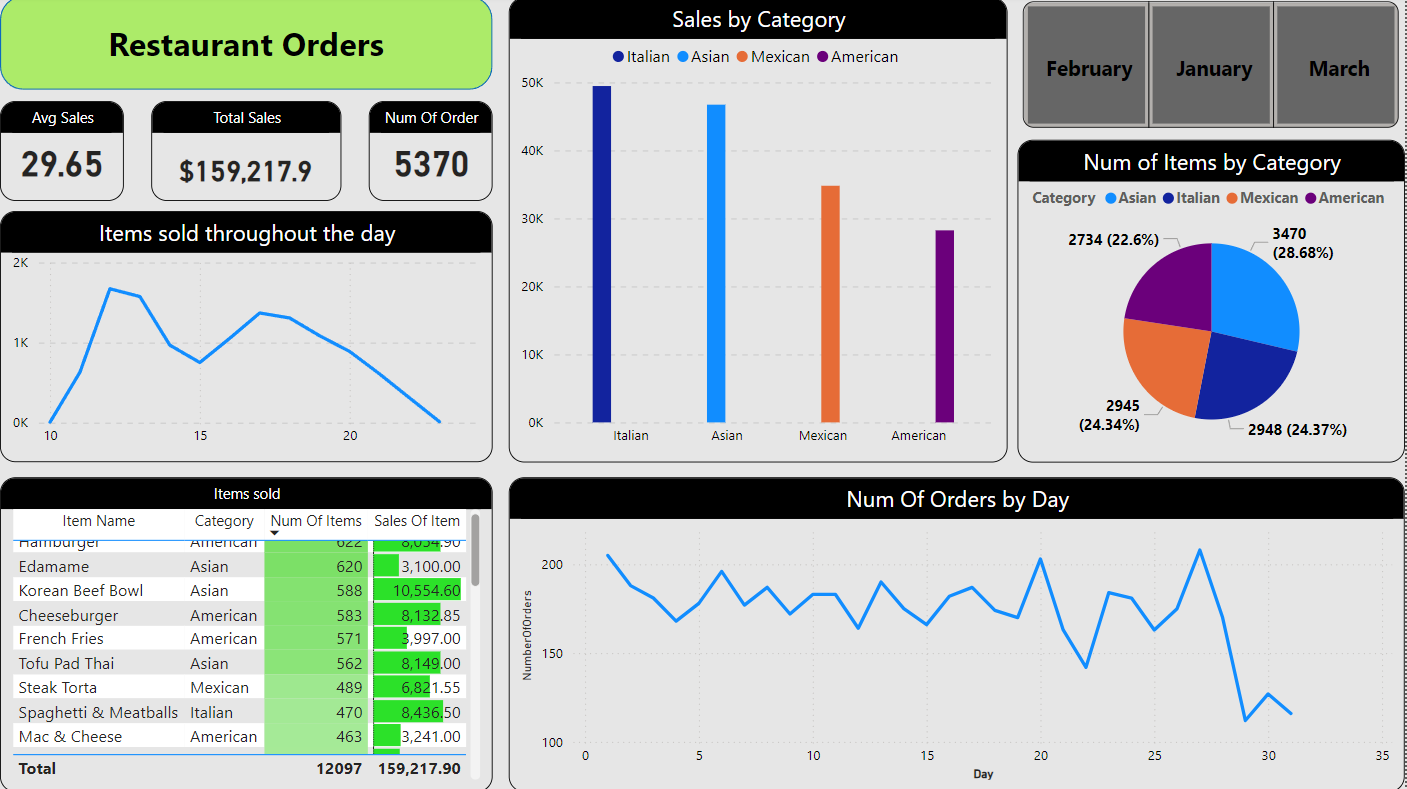

The page's visual inventory and layout, read from the dashboard file:
{"tool":"powerbi","page":{"name":"Page 1","canvas":[1280,720],"ordinal":0},"visuals":[{"type":"pieChart","title":"Num of Items by Category","fields":{"Y":["measure.Num Of Items"],"Category":["menu_items.Category"]},"box":[929.4,130,350.5,291.7],"z":0},{"type":"lineChart","title":"Num Of Orders by Day","fields":{"Y":["measure.NumberOfOrders"],"Category":["order_details.order_date.Variation.Date Hierarchy.Day"]},"box":[469.2,435.3,810.7,284.9],"z":1000},{"type":"advancedSlicerVisual","fields":{"Values":["order_details.Month Name"]},"box":[928.8,0,351.2,124.6],"z":2000},{"type":"cardVisual","title":"Total Sales","fields":{"Data":["measure.TotalSales"]},"box":[145.9,95,171.9,90.5],"z":3000},{"type":"card","title":"Num Of Order","fields":{"Values":["measure.NumberOfOrders"]},"box":[342.6,95,111.9,90.5],"z":4000},{"type":"card","title":"Avg Sales","fields":{"Values":["measure.AverageOrderValue"]},"box":[9,95,111.9,90.5],"z":5000},{"type":"tableEx","title":"Items sold","fields":{"Values":["menu_items.item_name","menu_items.category","measure.num of items","measure.Sales of item"]},"box":[9,435.3,445.5,284.9],"z":6000},{"type":"clusteredColumnChart","title":"Sales by Category","fields":{"Y":["measure.Sales Of Item"],"Category":["menu_items.Category"],"Series":["menu_items.Category"]},"box":[469.2,1.1,451.1,420.6],"z":7000},{"type":"shape","box":[9,0,445.5,84.8],"z":7001},{"type":"lineChart","title":"Items sold throughout the day","fields":{"Category":["order_details.hour"],"Y":["CountNonNull(order_details.item_id)"]},"box":[9,194.5,445.5,227.3],"z":7002}]}

Visuals, with their boxes in screenshot pixels (x1, y1, x2, y2), scaled from the page's 1280x720 canvas onto the 1407x789 screenshot:
"Num of Items by Category" pieChart: pyautogui.locateOnScreen(1022, 142, 1406, 462)
"Num Of Orders by Day" lineChart: pyautogui.locateOnScreen(516, 477, 1406, 788)
advancedSlicerVisual - order_details.Month Name: pyautogui.locateOnScreen(1021, 0, 1406, 137)
"Total Sales" cardVisual: pyautogui.locateOnScreen(160, 104, 349, 203)
"Num Of Order" card: pyautogui.locateOnScreen(377, 104, 500, 203)
"Avg Sales" card: pyautogui.locateOnScreen(10, 104, 133, 203)
"Items sold" tableEx: pyautogui.locateOnScreen(10, 477, 500, 788)
"Sales by Category" clusteredColumnChart: pyautogui.locateOnScreen(516, 1, 1012, 462)
shape: pyautogui.locateOnScreen(10, 0, 500, 93)
"Items sold throughout the day" lineChart: pyautogui.locateOnScreen(10, 213, 500, 462)
